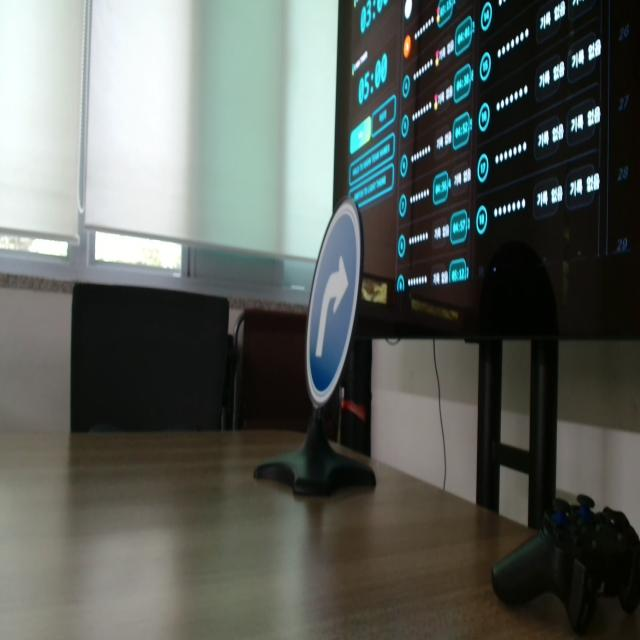right_dierection: (295, 194, 372, 458)
